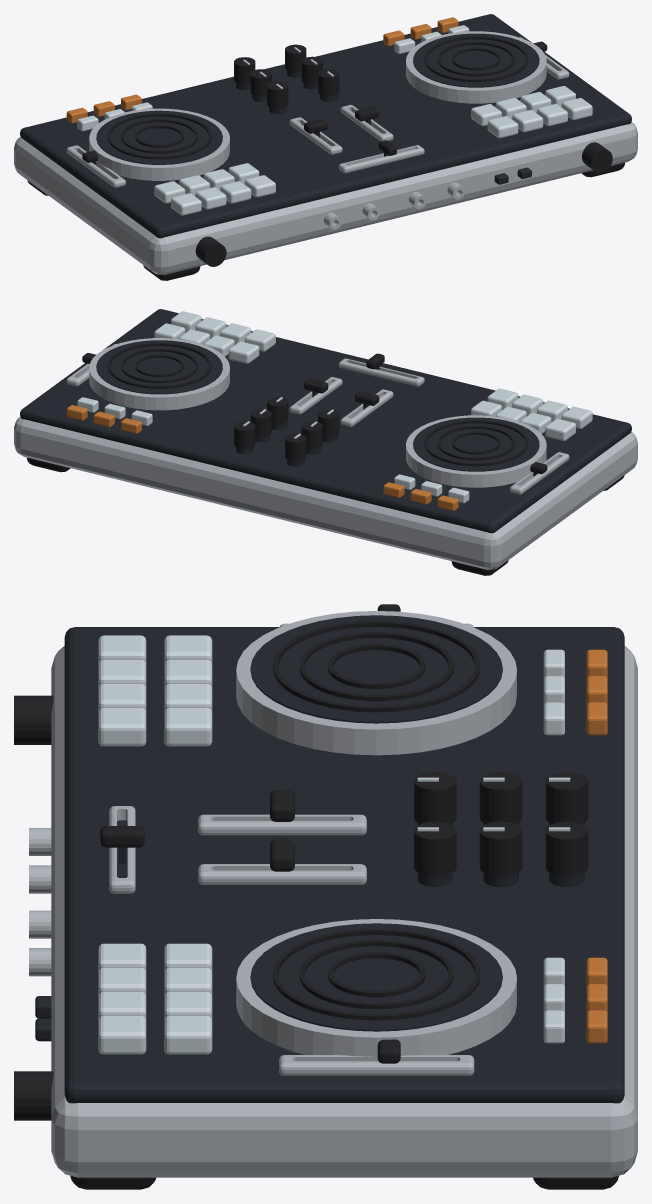
Rendered from A-NEW-20261026-DJ-CONTROLLER-001_LOD1_R1.glb.
The picture shows the model from 3 angles, top to bottom: view 1: azimuth 30°, elevation 25°; view 2: azimuth 150°, elevation 25°; view 3: azimuth 270°, elevation 25°; orthographic projection. The views are drawn at different scales.
Visible parts, largest first — view 1: black control deck, controller base, jog central platter, jog central platter.001, jog silver rim.001, jog silver rim, crossfader surround, concentric jog grip.005, concentric jog grip.002, pitch slot surround, front projecting knob.001, front projecting knob (+28 smaller); view 2: black control deck, controller base, jog central platter, jog central platter.001, jog silver rim.001, jog silver rim, crossfader surround, concentric jog grip.002, concentric jog grip.005, pitch slot surround, concentric jog grip.004, concentric jog grip.001 (+21 smaller); view 3: black control deck, controller base, jog central platter, jog central platter.001, jog silver rim, jog silver rim.001, pitch slot surround.001, channel fader surround, channel fader surround.001, concentric jog grip.002, concentric jog grip.005, concentric jog grip.001 (+31 smaller).
Part boxes in pixels (x1,y1,x2,y2): black control deck: [20, 14, 631, 238]; controller base: [14, 122, 637, 274]; jog central platter: [96, 110, 222, 164]; jog central platter.001: [413, 33, 539, 87]; jog silver rim.001: [406, 31, 546, 103]; jog silver rim: [89, 108, 229, 180]; crossfader surround: [338, 145, 424, 173]; concentric jog grip.005: [424, 36, 528, 82]; concentric jog grip.002: [107, 113, 211, 159]; pitch slot surround: [66, 145, 125, 187]; front projecting knob.001: [582, 142, 612, 172]; front projecting knob: [195, 236, 226, 266]; black control deck: [20, 309, 631, 533]; controller base: [14, 417, 637, 569]; jog central platter: [413, 417, 539, 471]; jog central platter.001: [96, 340, 222, 394]; jog silver rim.001: [89, 338, 229, 410]; jog silver rim: [406, 415, 546, 487]; crossfader surround: [338, 358, 424, 386]; concentric jog grip.002: [424, 420, 528, 466]; concentric jog grip.005: [107, 343, 211, 388]; pitch slot surround: [510, 452, 569, 494]; concentric jog grip.004: [121, 348, 198, 383]; concentric jog grip.001: [437, 426, 514, 460]; black control deck: [64, 627, 624, 1103]; controller base: [51, 646, 637, 1177]; jog central platter: [250, 615, 502, 723]; jog central platter.001: [250, 923, 502, 1031]; jog silver rim: [236, 611, 516, 755]; jog silver rim.001: [236, 919, 516, 1056]; pitch slot surround.001: [279, 1055, 474, 1075]; channel fader surround: [198, 814, 366, 835]; channel fader surround.001: [198, 864, 366, 884]; concentric jog grip.002: [273, 620, 480, 712]; concentric jog grip.005: [273, 928, 480, 1020]; concentric jog grip.001: [299, 632, 453, 701].
Bounding box in the file's own units: 0.63 × 0.1025 × 0.351.
